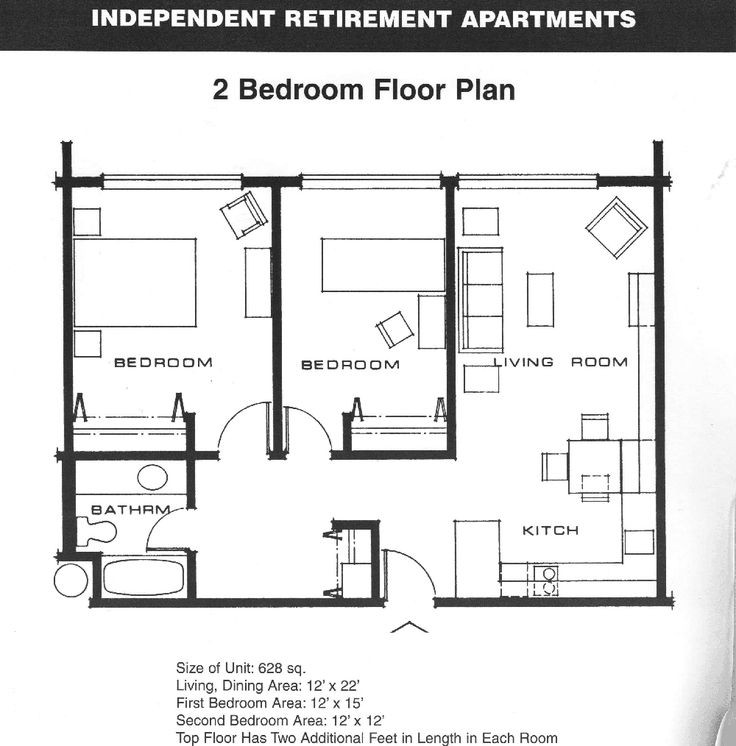door: (211, 391, 275, 456), (284, 405, 342, 464), (379, 545, 436, 604), (142, 510, 200, 553)
room: (450, 191, 669, 607), (55, 172, 285, 457), (282, 181, 462, 464), (59, 448, 197, 605)
wall: (650, 131, 675, 612), (60, 124, 84, 557), (267, 180, 290, 456), (432, 593, 677, 618), (90, 594, 390, 614), (443, 189, 460, 457), (54, 446, 221, 468), (325, 444, 465, 469), (596, 166, 672, 195), (180, 411, 202, 507), (367, 505, 385, 610), (244, 172, 302, 195), (58, 543, 111, 568), (329, 515, 390, 536), (90, 555, 108, 602), (51, 173, 101, 189), (186, 549, 202, 599), (342, 412, 357, 451)
window: (297, 169, 443, 198), (458, 168, 601, 195), (97, 170, 245, 193)
